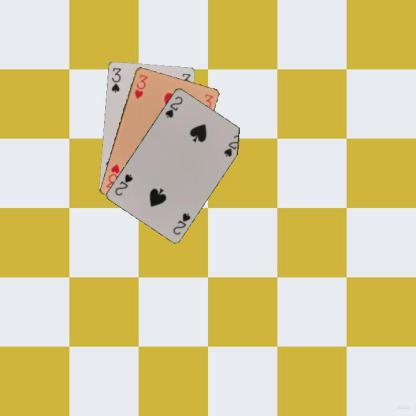2s: (162, 93, 184, 119), (170, 210, 192, 236)
3h: (132, 72, 148, 100)
3s: (109, 65, 122, 94)
